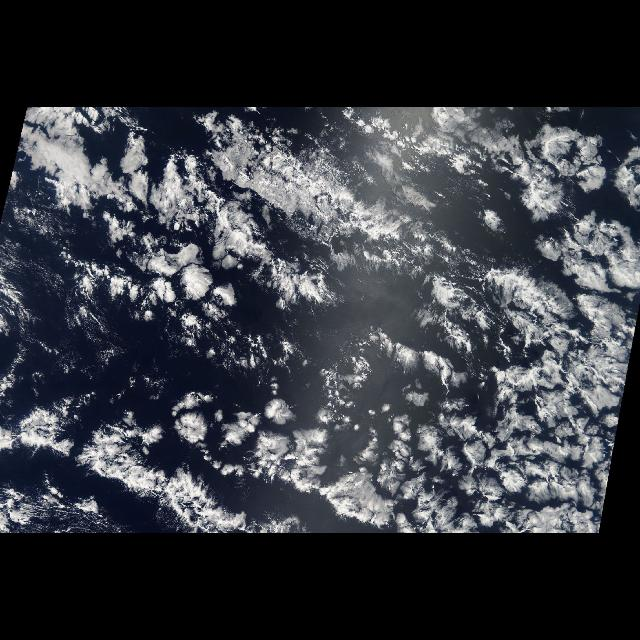Fish: (3, 375, 313, 531)
Flower: (8, 237, 594, 529)
